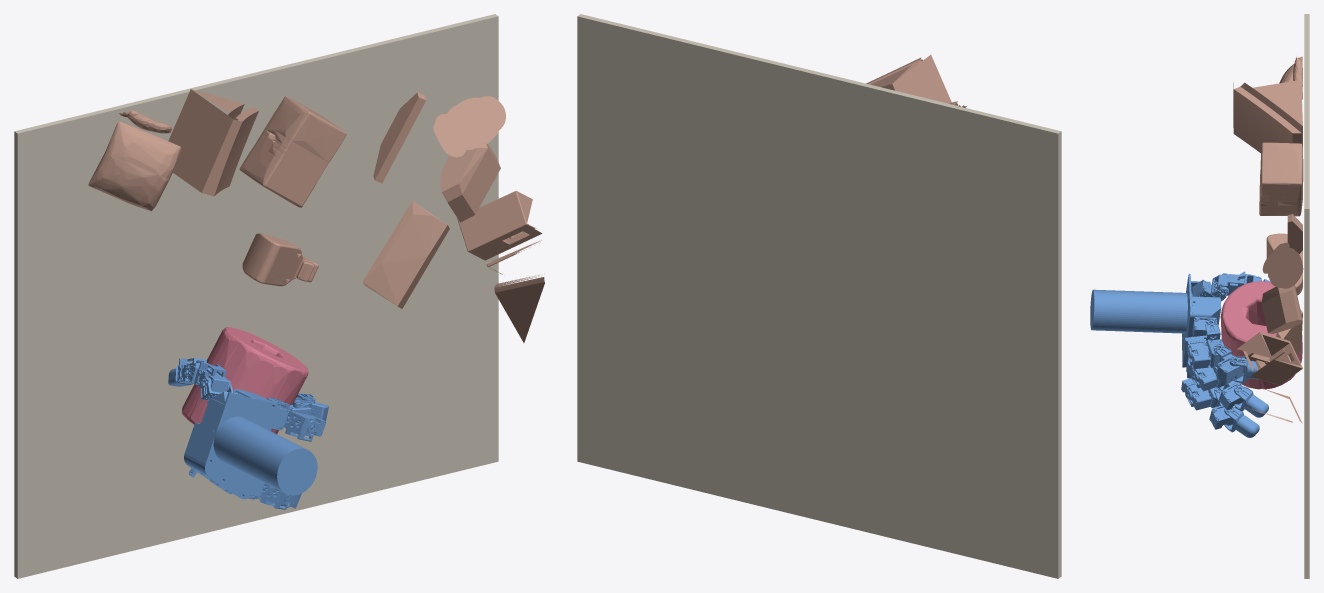
The picture shows the model from 3 angles, left to right: view 1: azimuth 30°, elevation 25°; view 2: azimuth 150°, elevation 25°; view 3: azimuth 270°, elevation 25°; orthographic projection. The views are drawn at different scales.
Visible parts, largest first — view 1: environment, hand, obstacle_005, obstacle_006, world, obstacle_001, obstacle_010, obstacle_003, obstacle_007, obstacle_009, obstacle_008, obstacle_000 (+1 smaller); view 2: environment, obstacle_006; view 3: hand, obstacle_006, environment, obstacle_005, world, obstacle_003, obstacle_009, obstacle_007, obstacle_004, obstacle_008, obstacle_010.
Part boxes in pixels (x1,y1,x2,y2): environment: (14,14,498,578); hand: (168,358,328,509); obstacle_005: (239,96,346,207); obstacle_006: (168,89,258,196); world: (181,327,308,433); obstacle_001: (88,122,181,211); obstacle_010: (362,201,449,308); obstacle_003: (457,190,542,274); obstacle_007: (433,96,505,157); obstacle_009: (440,143,500,222); obstacle_008: (242,233,318,286); obstacle_000: (494,275,544,342); environment: (577,14,1061,578); obstacle_006: (866,54,951,103); hand: (1090,271,1270,437); obstacle_006: (1233,80,1302,152); environment: (1304,14,1309,578); obstacle_005: (1259,142,1303,216); world: (1220,281,1302,389); obstacle_003: (1236,332,1302,423); obstacle_009: (1261,284,1302,333); obstacle_007: (1262,242,1303,288); obstacle_004: (1287,214,1302,253); obstacle_008: (1266,233,1302,295); obstacle_010: (1276,309,1302,361).
Size of the model in its own units: 0.7094 by 0.6082 by 0.324.
